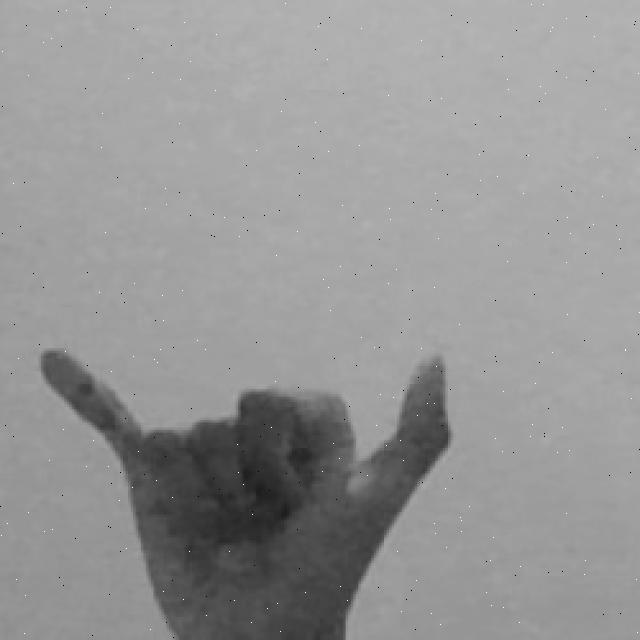Y: (33, 342, 459, 640)
